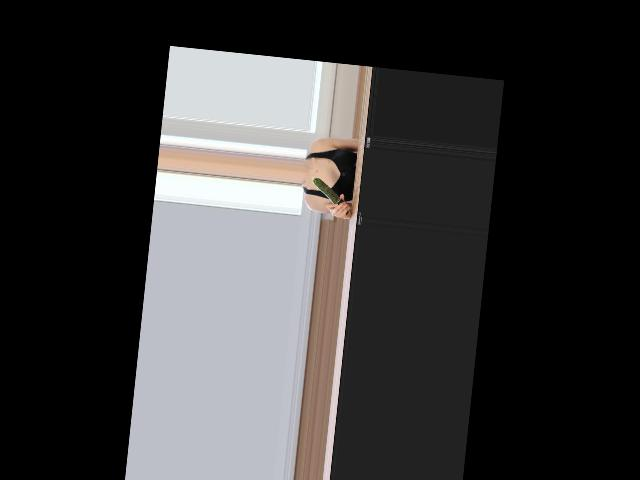cucumber: (308, 177, 352, 215)
